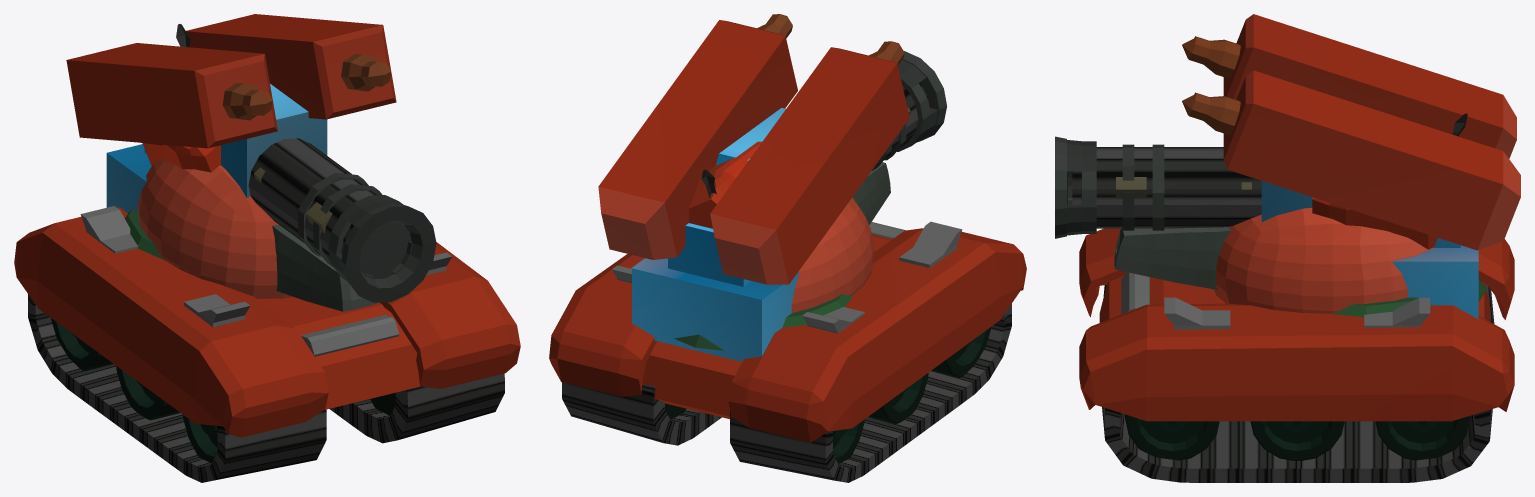
File: minitank-v10-red.fbx
The picture shows the model from 3 angles, left to right: view 1: azimuth 30°, elevation 25°; view 2: azimuth 150°, elevation 25°; view 3: azimuth 270°, elevation 25°; orthographic projection. The views are drawn at different scales.
Parts seen in each view (by area): view 1: body, ballistic, cannon-discardable, cannon-default, minigun; view 2: body, ballistic, cannon-discardable, cannon-default, minigun; view 3: body, ballistic, cannon-default, cannon-discardable, minigun.
Boxes of the visible parts, bbox=[...] form: body: bbox=[14, 206, 520, 482]; ballistic: bbox=[66, 14, 396, 260]; cannon-discardable: bbox=[106, 84, 436, 302]; cannon-default: bbox=[138, 24, 376, 311]; minigun: bbox=[142, 143, 332, 233]; body: bbox=[549, 221, 1026, 482]; ballistic: bbox=[598, 14, 909, 350]; cannon-discardable: bbox=[632, 51, 946, 361]; cannon-default: bbox=[701, 162, 890, 312]; minigun: bbox=[689, 107, 910, 228]; body: bbox=[1079, 228, 1514, 482]; ballistic: bbox=[1182, 14, 1520, 316]; cannon-default: bbox=[1114, 113, 1467, 313]; cannon-discardable: bbox=[1055, 136, 1478, 319]; minigun: bbox=[1116, 177, 1437, 249].
Size of the model in its own units: 1777 by 2109 by 2463.
